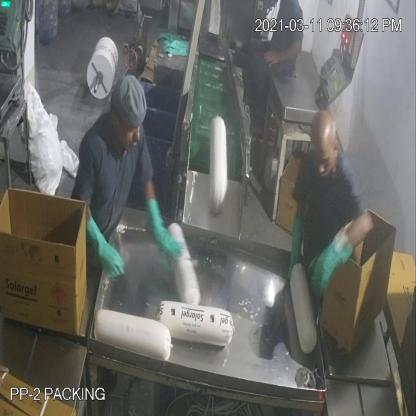glove: (140, 192, 184, 270), (82, 208, 126, 283), (314, 225, 355, 302), (285, 207, 309, 284)
no_glove: (262, 34, 308, 78)
